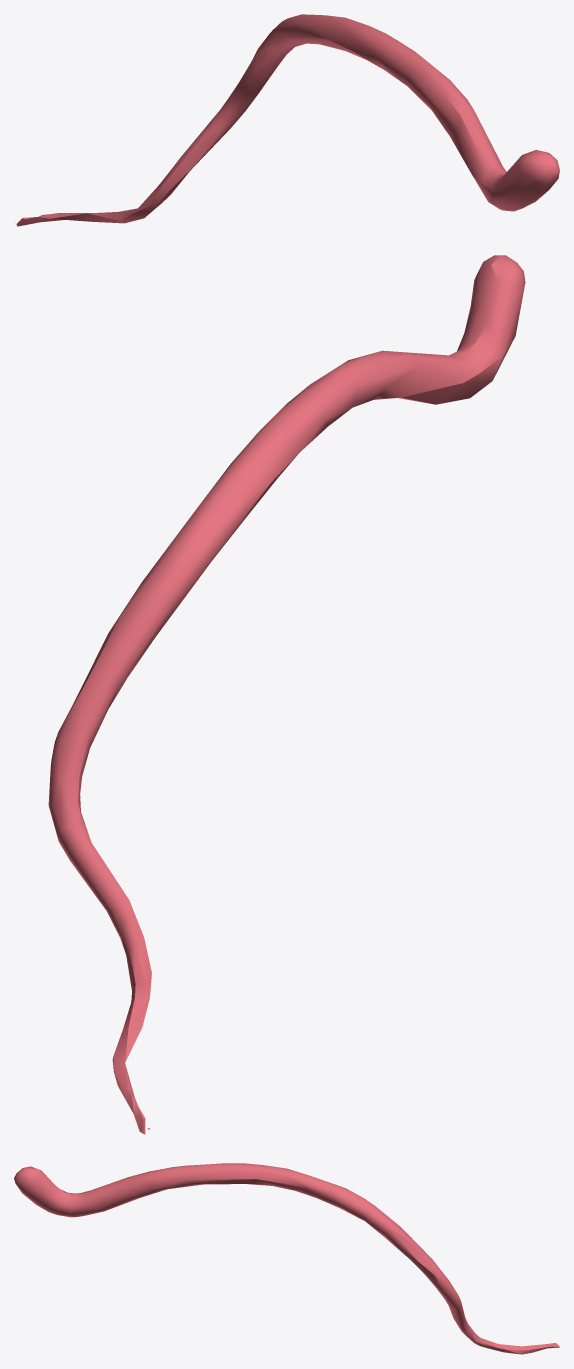
File: fma51230_fj5210.glb
3 views of the same model, one above another, from view 1: azimuth 30°, elevation 25°; view 2: azimuth 150°, elevation 25°; view 3: azimuth 270°, elevation 25° (orthographic). The views are drawn at different scales.
Parts seen in each view (by area): view 1: FMA51230_FJ5210; view 2: FMA51230_FJ5210; view 3: FMA51230_FJ5210.
Part boxes in pixels (x1,y1,x2,y2): FMA51230_FJ5210: [14, 14, 559, 226]; FMA51230_FJ5210: [48, 255, 525, 1134]; FMA51230_FJ5210: [14, 1163, 559, 1354].
Size of the model in its own units: 0.00961 by 0.019 by 0.0416.
